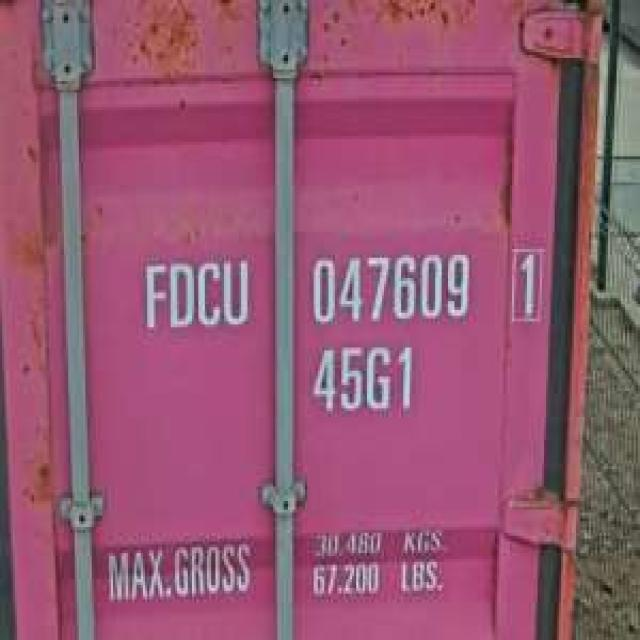dv: (506, 240, 544, 324)
owner: (136, 249, 254, 333)
serial: (305, 246, 474, 330)
size: (307, 339, 420, 420)
